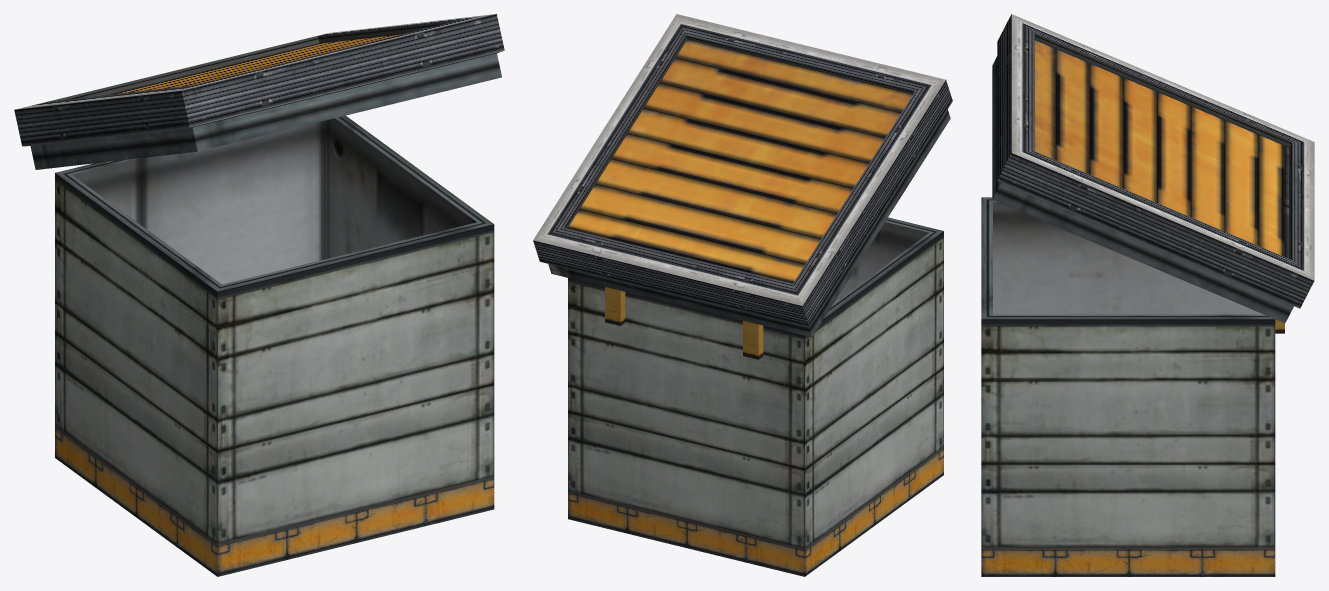
File: bauquadradoanimado.fbx
The picture shows the model from 3 angles, left to right: view 1: azimuth 30°, elevation 25°; view 2: azimuth 150°, elevation 25°; view 3: azimuth 270°, elevation 25°; orthographic projection. The views are drawn at different scales.
Visible parts, largest first — view 1: Cylinder, Cylinder.001; view 2: Cylinder, Cylinder.001; view 3: Cylinder, Cylinder.001.
Part boxes in pixels (x1=…): Cylinder: x1=55, y1=115, x2=494, y2=576; Cylinder.001: x1=14, y1=14, x2=504, y2=169; Cylinder: x1=568, y1=217, x2=943, y2=576; Cylinder.001: x1=533, y1=14, x2=952, y2=337; Cylinder: x1=981, y1=197, x2=1284, y2=576; Cylinder.001: x1=992, y1=14, x2=1314, y2=323.
Size of the model in its own units: 0.9985 by 1.45 by 1.01.
